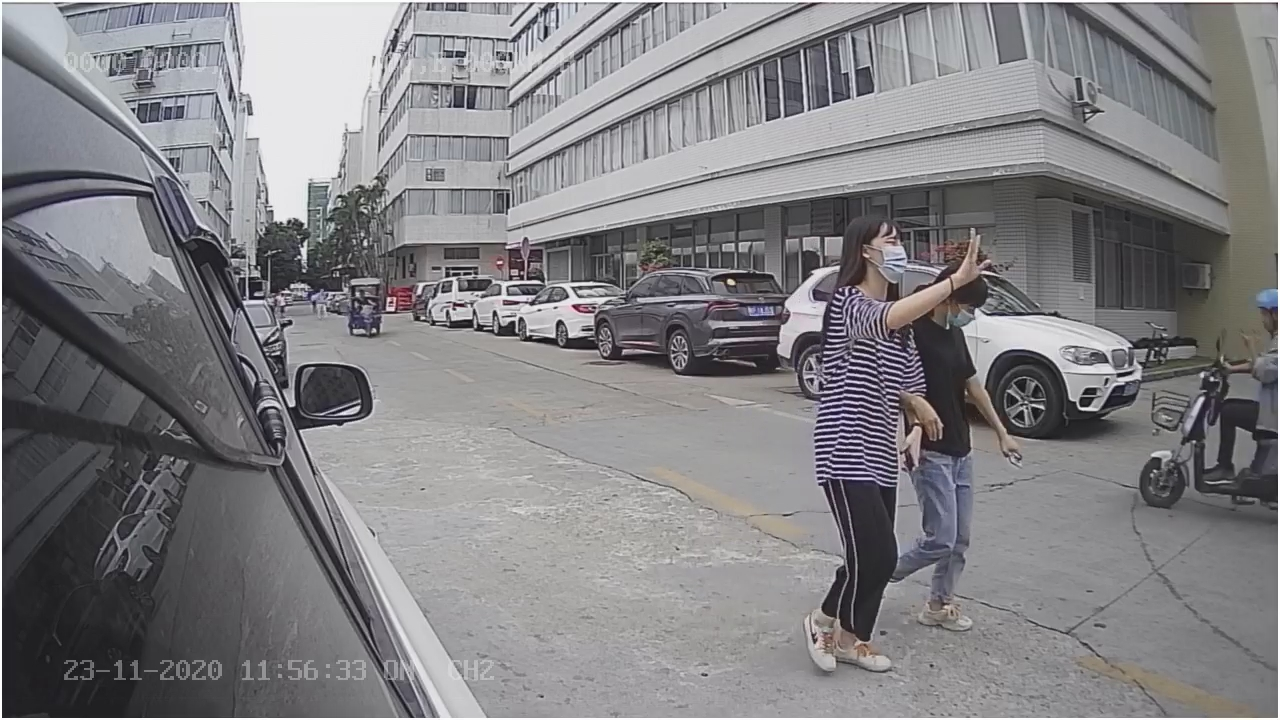person: (796, 207, 917, 678)
